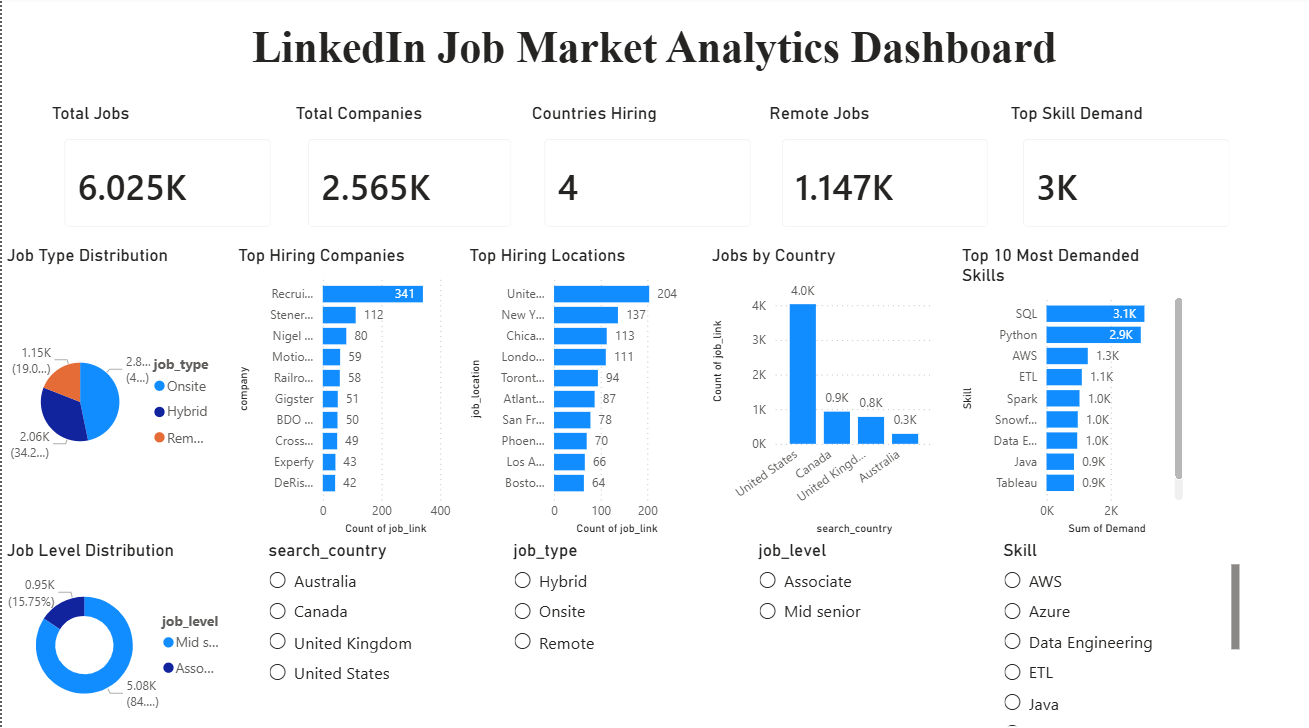

The dashboard page shown, as its layout file describes it:
{"tool":"powerbi","page":{"name":"Dashboard","canvas":[1280,720],"ordinal":0},"visuals":[{"type":"cardVisual","title":"Total Jobs","fields":{"Data":["CountNonNull(cleaned_jobs.job_link)"]},"box":[43.8,103.8,236.2,140],"z":0},{"type":"cardVisual","title":"Total Companies","fields":{"Data":["Count(cleaned_jobs.company)"]},"box":[282.5,103.8,233.8,140],"z":1000},{"type":"cardVisual","title":"Countries Hiring","fields":{"Data":["Count(cleaned_jobs.search_country)"]},"box":[513.8,103.8,236.2,140],"z":2000},{"type":"cardVisual","title":"Remote Jobs","fields":{"Data":["CountNonNull(cleaned_jobs.job_link)"]},"box":[746.2,103.8,236.2,140],"z":3000},{"type":"pieChart","title":"Job Type Distribution","fields":{"Y":["CountNonNull(cleaned_jobs.job_type)"],"Category":["cleaned_jobs.job_type"]},"box":[0,243.8,226.2,288.8],"z":5000},{"type":"clusteredBarChart","title":"Top Hiring Companies","fields":{"Category":["cleaned_jobs.company"],"Y":["CountNonNull(cleaned_jobs.job_link)"]},"box":[226.2,243.8,226.2,288.8],"z":6000},{"type":"clusteredBarChart","title":"Top Hiring Locations","fields":{"Category":["cleaned_jobs.job_location"],"Y":["CountNonNull(cleaned_jobs.job_link)"]},"box":[452.5,243.8,226.2,288.8],"z":7000},{"type":"clusteredColumnChart","title":"Jobs by Country","fields":{"Category":["cleaned_jobs.search_country"],"Y":["CountNonNull(cleaned_jobs.job_link)"]},"box":[690,243.8,226.2,288.8],"z":8000},{"type":"donutChart","title":"Job Level Distribution","fields":{"Category":["cleaned_jobs.job_level"],"Y":["CountNonNull(cleaned_jobs.job_link)"]},"box":[0,532.5,227.5,187.5],"z":9000},{"type":"listSlicer","fields":{"Values":["cleaned_jobs.search_country"]},"box":[255,532.5,240,187.5],"z":10000},{"type":"listSlicer","fields":{"Values":["cleaned_jobs.job_type"]},"box":[495,532.5,240,187.5],"z":11000},{"type":"listSlicer","fields":{"Values":["cleaned_jobs.job_level"]},"box":[735,532.5,240,187.5],"z":12000},{"type":"textbox","box":[123.5,20.6,1029.2,61.7],"z":13000},{"type":"clusteredBarChart","title":"Top 10 Most Demanded Skills","fields":{"Category":["top_skills.Skill"],"Y":["Sum(top_skills.Demand)"]},"box":[933.8,243.8,226.2,288.8],"z":14000},{"type":"cardVisual","title":"Top Skill Demand","fields":{"Data":["Max(top_skills.Demand)"]},"box":[982.5,103.8,236.2,140],"z":15000},{"type":"listSlicer","fields":{"Values":["top_skills.Skill"]},"box":[975,532.5,241.2,187.5],"z":16000}]}

Visuals, with their boxes in screenshot pixels (x1, y1, x2, y2), scaled from the page's 1280x720 canvas onto the 1309x728 screenshot:
"Total Jobs" cardVisual: x1=45 y1=105 x2=286 y2=247
"Total Companies" cardVisual: x1=289 y1=105 x2=528 y2=247
"Countries Hiring" cardVisual: x1=525 y1=105 x2=767 y2=247
"Remote Jobs" cardVisual: x1=763 y1=105 x2=1005 y2=247
"Job Type Distribution" pieChart: x1=0 y1=247 x2=231 y2=539
"Top Hiring Companies" clusteredBarChart: x1=231 y1=247 x2=463 y2=539
"Top Hiring Locations" clusteredBarChart: x1=463 y1=247 x2=694 y2=539
"Jobs by Country" clusteredColumnChart: x1=706 y1=247 x2=937 y2=539
"Job Level Distribution" donutChart: x1=0 y1=538 x2=233 y2=727
listSlicer - cleaned_jobs.search_country: x1=261 y1=538 x2=506 y2=727
listSlicer - cleaned_jobs.job_type: x1=506 y1=538 x2=752 y2=727
listSlicer - cleaned_jobs.job_level: x1=752 y1=538 x2=997 y2=727
textbox: x1=126 y1=21 x2=1179 y2=83
"Top 10 Most Demanded Skills" clusteredBarChart: x1=955 y1=247 x2=1186 y2=539
"Top Skill Demand" cardVisual: x1=1005 y1=105 x2=1246 y2=247
listSlicer - top_skills.Skill: x1=997 y1=538 x2=1244 y2=727
